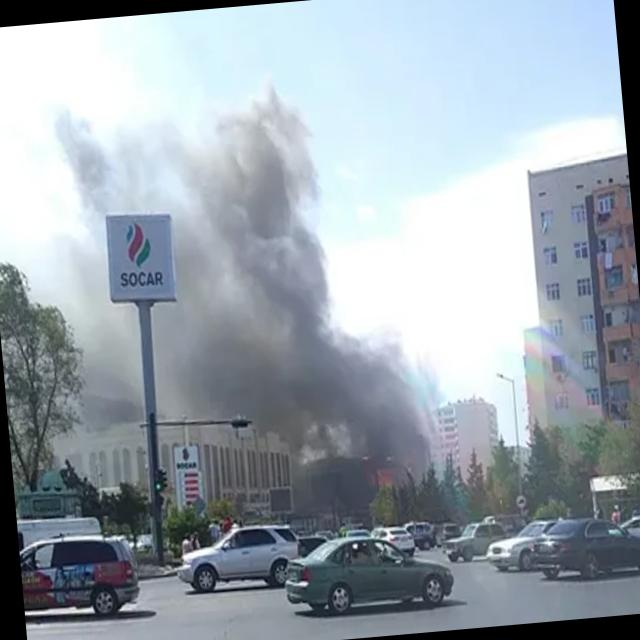Smoke: (214, 76, 444, 490)
